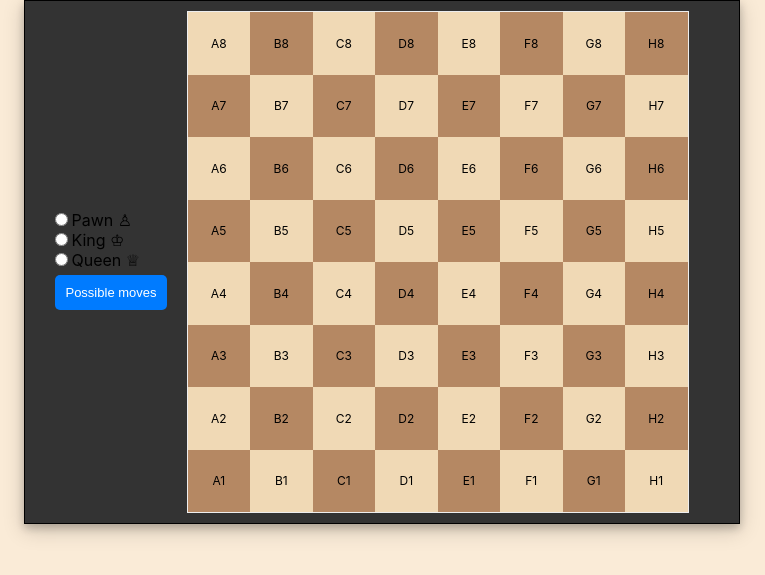
Test: Game component › displays error message when position not selected
The width and height of the screenshot is (765, 575).
Click the button with test id "btn-possible-moves". click: click(111, 292)
box: [56,274,166,310]
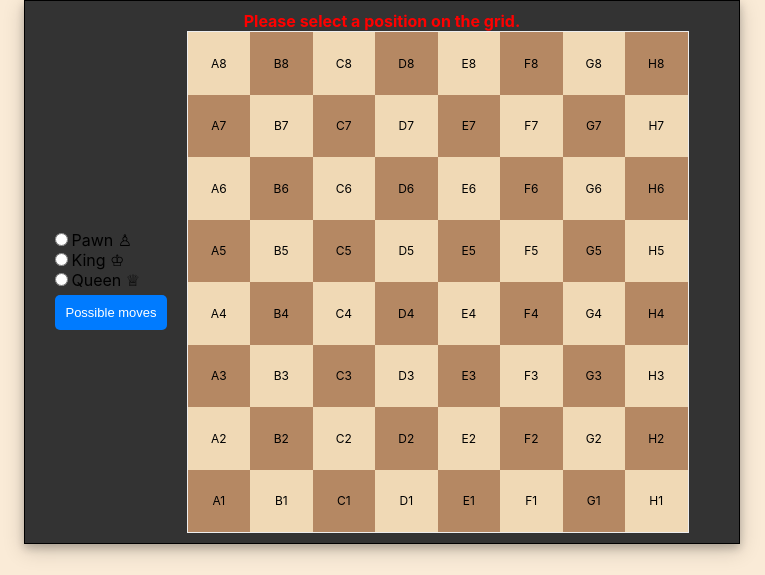
Now the text with test id "error-message" reads "Please select a position on the grid.", box [244,11,520,31]
